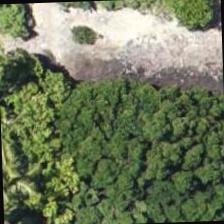Kelapa_Sawit: (0, 21, 49, 114)
